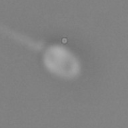normal: (1, 19, 44, 51)
